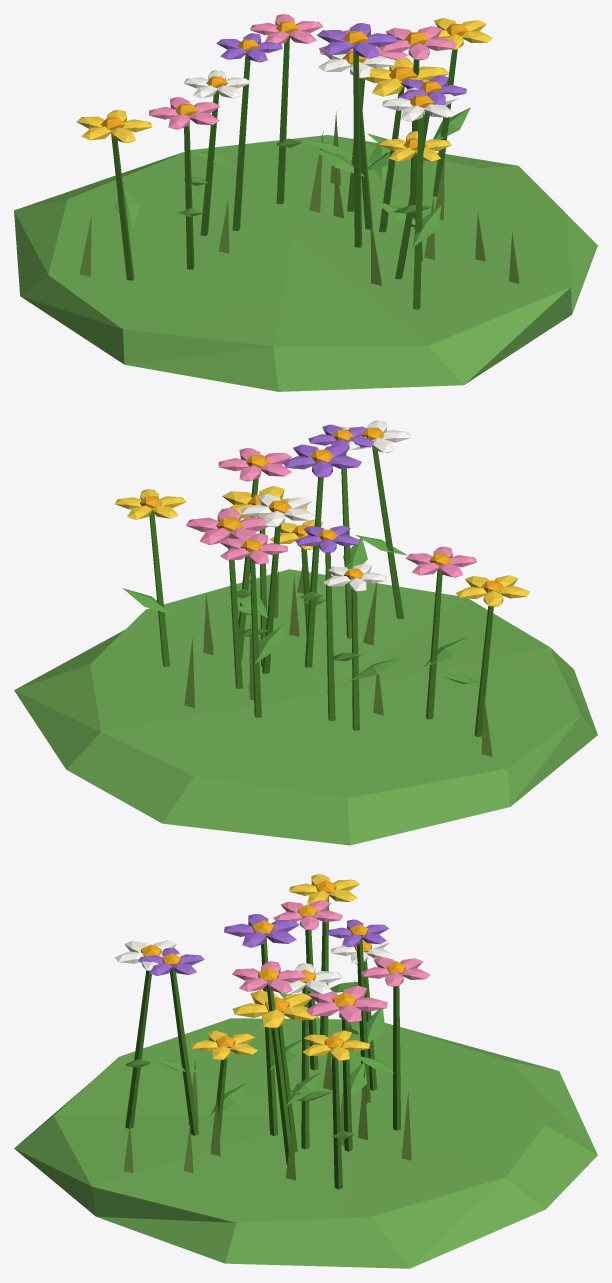
The model's file is low-poly-flower-patch.glb.
3 views of the same model, one above another, from view 1: azimuth 30°, elevation 25°; view 2: azimuth 150°, elevation 25°; view 3: azimuth 270°, elevation 25° (orthographic). The views are drawn at different scales.
Visible parts, largest first — view 1: Low_Poly_Flower_Patch; view 2: Low_Poly_Flower_Patch; view 3: Low_Poly_Flower_Patch.
Boxes of the visible parts, x1,y1,x2,y2 form: Low_Poly_Flower_Patch: [14, 14, 597, 391]; Low_Poly_Flower_Patch: [14, 420, 597, 845]; Low_Poly_Flower_Patch: [14, 874, 597, 1268].
Size of the model in its own units: 0.9241 by 0.4405 by 0.9784.
